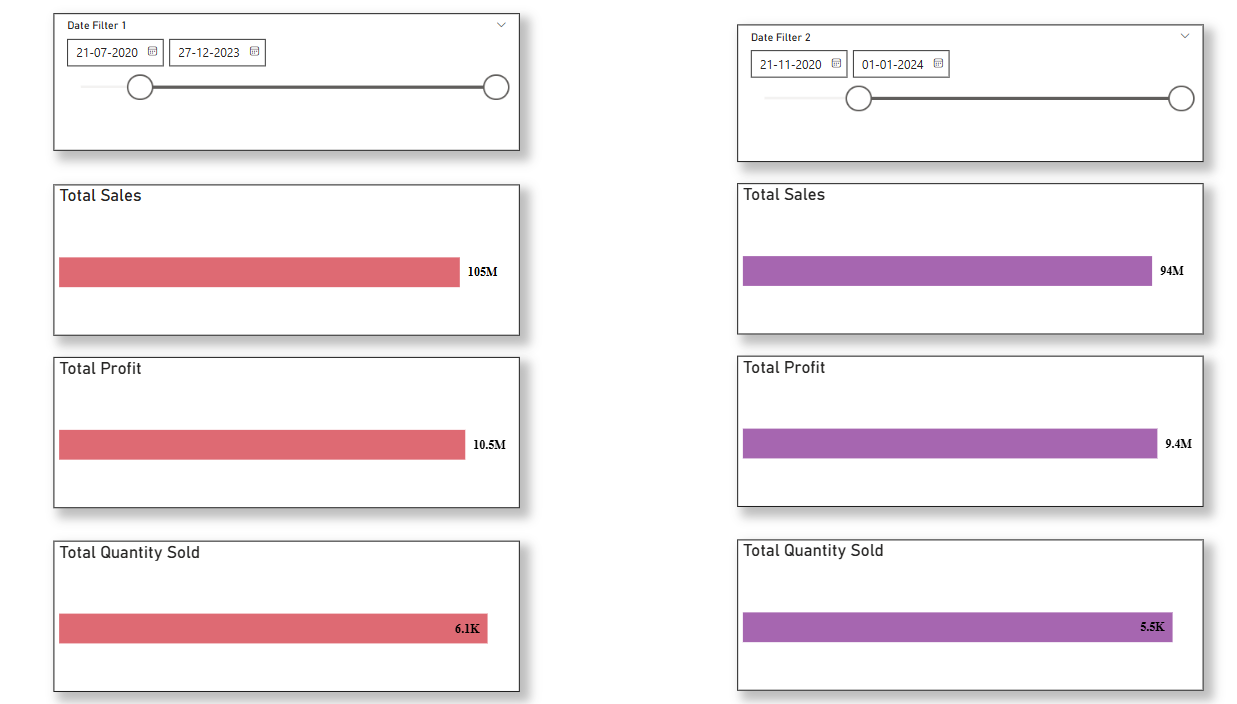

The dashboard page shown, as its layout file describes it:
{"tool":"powerbi","page":{"name":"Edit Interaction","canvas":[1280,720],"ordinal":3},"visuals":[{"type":"slicer","fields":{"Values":["Fact Table.Date (dd/mm/yyyy)"]},"box":[57.2,26.1,464,136.8],"z":0},{"type":"slicer","fields":{"Values":["Fact Table.Date (dd/mm/yyyy)"]},"box":[737.7,37.3,464,136.8],"z":1000},{"type":"barChart","title":"Total Sales","fields":{"Y":["Sum(Fact Table.Net Sales)"]},"box":[57.2,196.5,464,150.5],"z":2000},{"type":"barChart","title":"Total Profit","fields":{"Y":["Sum(Fact Table.Profit)"]},"box":[57.2,368.2,464,150.5],"z":3000},{"type":"barChart","title":"Total Quantity Sold","fields":{"Y":["Sum(Fact Table.Units Sold)"]},"box":[57.2,551.1,464,150.5],"z":4000},{"type":"barChart","title":"Total Sales","fields":{"Y":["Sum(Fact Table.Net Sales)"]},"box":[738,195.6,464,150.5],"z":5000},{"type":"barChart","title":"Total Profit","fields":{"Y":["Sum(Fact Table.Profit)"]},"box":[738,367.3,464,150.5],"z":6000},{"type":"barChart","title":"Total Quantity Sold","fields":{"Y":["Sum(Fact Table.Units Sold)"]},"box":[738,550.1,464,150.5],"z":7000}]}

Visuals, with their boxes in screenshot pixels (x1, y1, x2, y2), scaled from the page's 1280x720 canvas onto the 1237x704 screenshot:
slicer - Fact Table.Date (dd/mm/yyyy): 55/26/504/159
slicer - Fact Table.Date (dd/mm/yyyy): 713/36/1161/170
"Total Sales" barChart: 55/192/504/339
"Total Profit" barChart: 55/360/504/507
"Total Quantity Sold" barChart: 55/539/504/686
"Total Sales" barChart: 713/191/1162/338
"Total Profit" barChart: 713/359/1162/506
"Total Quantity Sold" barChart: 713/538/1162/685
